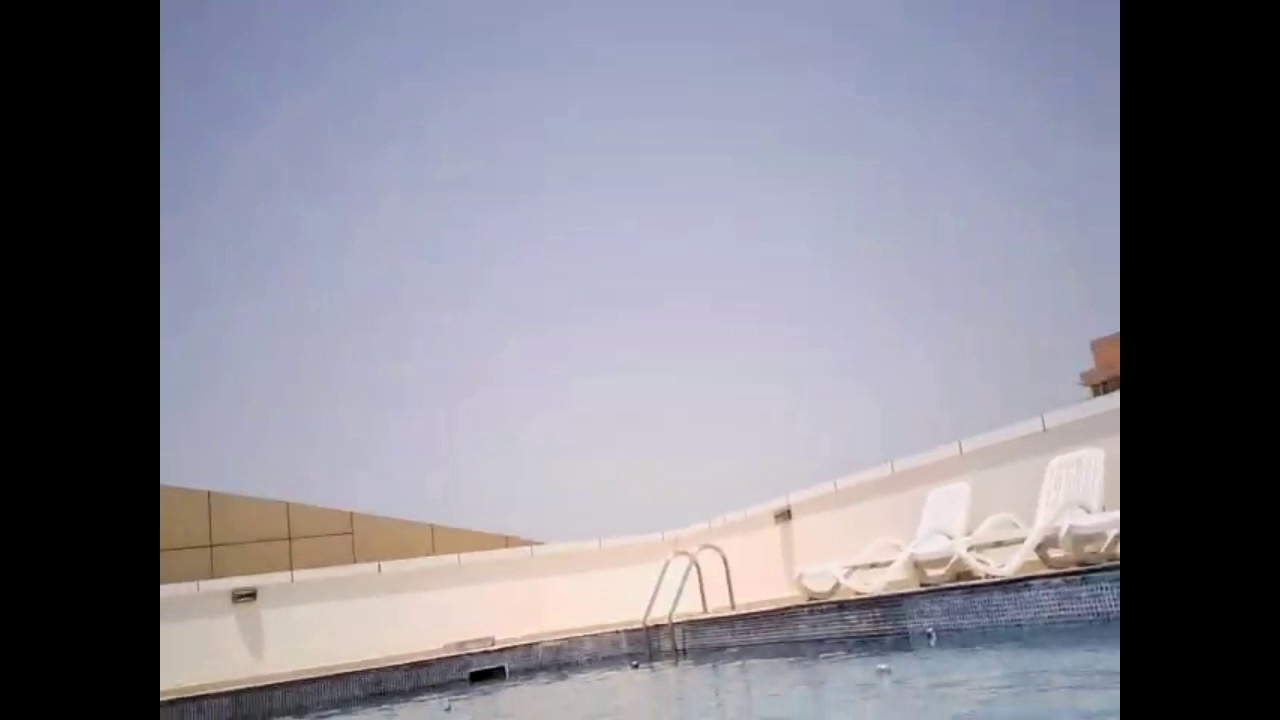debris: (874, 660, 892, 678), (435, 699, 454, 716), (920, 621, 938, 638), (626, 656, 645, 672)
